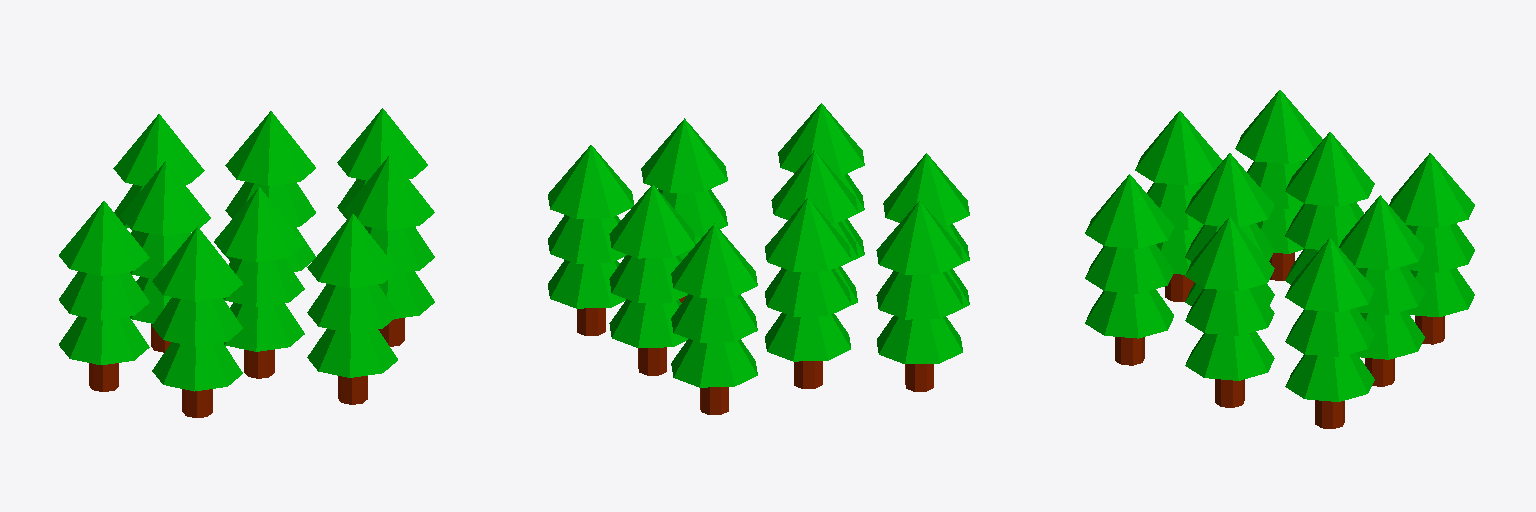
Rendered from Forest.obj.
The picture shows the model from 3 angles: view 1: azimuth 30°, elevation 25°; view 2: azimuth 150°, elevation 25°; view 3: azimuth 270°, elevation 25°; orthographic projection.
Visible parts, largest first — view 1: mergedBlocks; view 2: mergedBlocks; view 3: mergedBlocks.
Boxes of the visible parts, <box> form: mergedBlocks: <box>59,108,434,417</box>; mergedBlocks: <box>548,103,969,414</box>; mergedBlocks: <box>1085,90,1474,428</box>.
Size of the model in its own units: 0.8796 by 0.4092 by 0.7796.